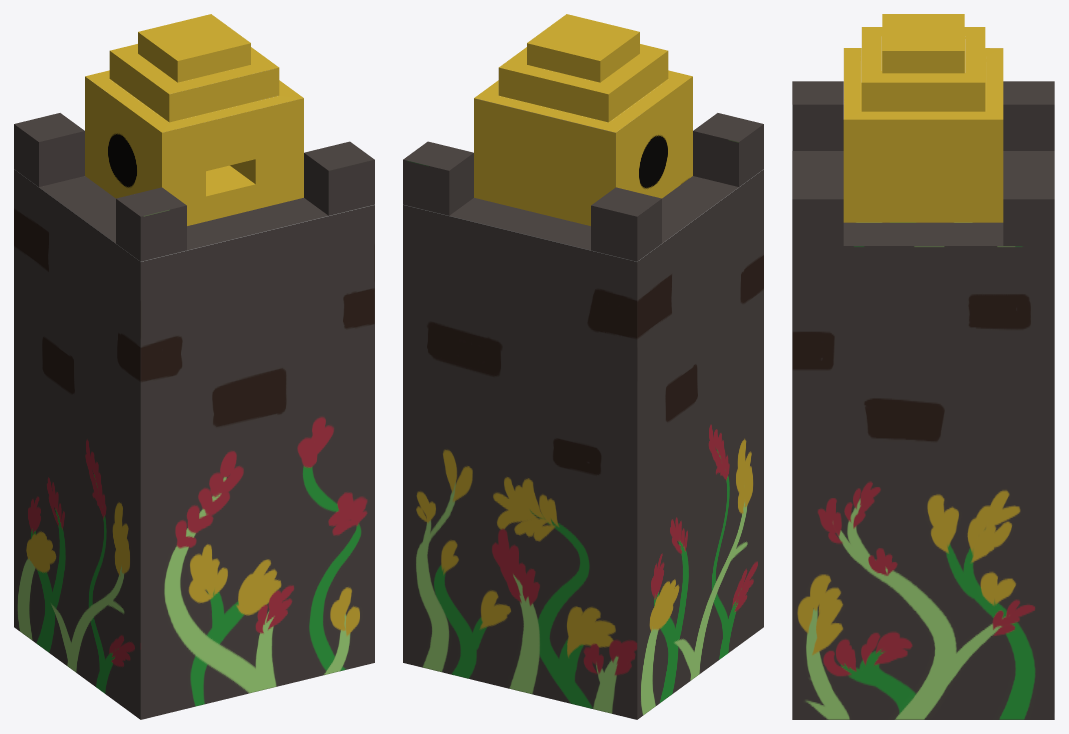
File: durm.glb
The picture shows the model from 3 angles, left to right: view 1: azimuth 30°, elevation 25°; view 2: azimuth 150°, elevation 25°; view 3: azimuth 270°, elevation 25°; orthographic projection. The views are drawn at different scales.
Visible parts, largest first — view 1: Turm, Bienenstock; view 2: Turm, Bienenstock; view 3: Turm, Bienenstock.
Boxes of the visible parts, x1,y1,x2,y2 form: Turm: [14, 113, 374, 719]; Bienenstock: [85, 14, 303, 225]; Turm: [403, 113, 763, 719]; Bienenstock: [474, 14, 692, 225]; Turm: [792, 81, 1054, 719]; Bienenstock: [843, 14, 1003, 222].
Size of the model in its own units: 2.5 by 6.2 by 2.34.
Materials: 2 (2 with a texture image).
